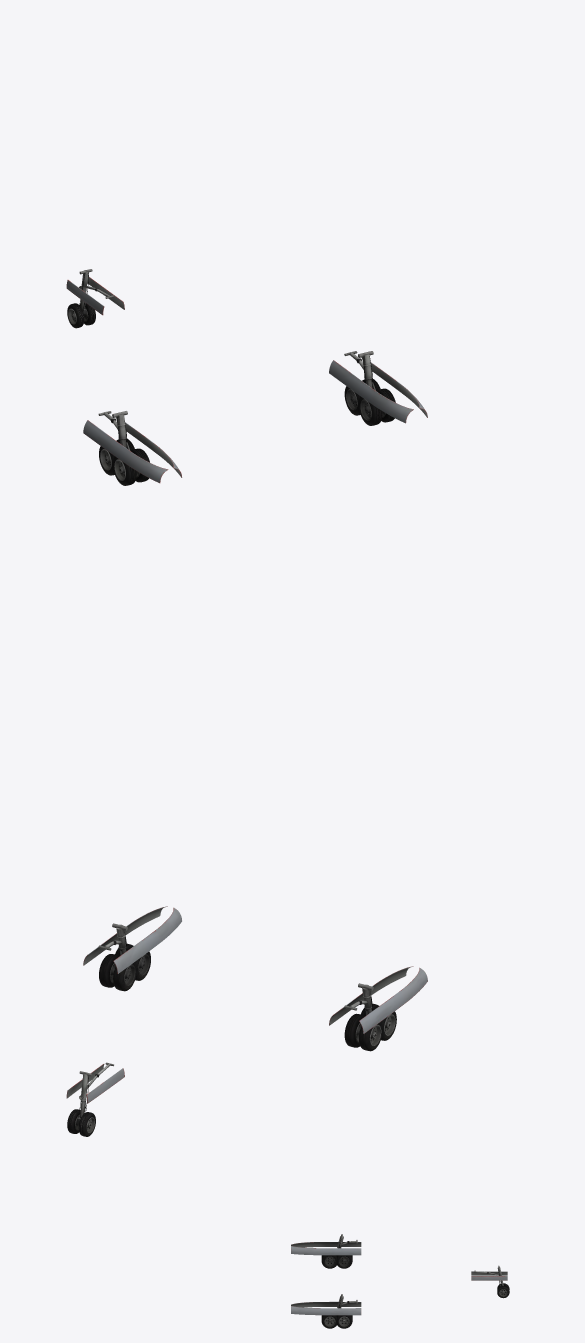
The model's file is e_tu95_gear.glb.
3 renders of one model, top to bottom at view 1: azimuth 30°, elevation 25°; view 2: azimuth 150°, elevation 25°; view 3: azimuth 270°, elevation 25°, orthographic. The views are drawn at different scales.
Parts seen in each view (by area): view 1: body|TU_paint; view 2: body|TU_paint; view 3: body|TU_paint.
Boxes of the visible parts, bbox=[...] form: body|TU_paint: bbox=[66, 269, 427, 485]; body|TU_paint: bbox=[66, 906, 427, 1136]; body|TU_paint: bbox=[291, 1234, 509, 1328].
Size of the model in its own units: 14.62 by 13.04 by 50.25.
1 material, 1 textured.
